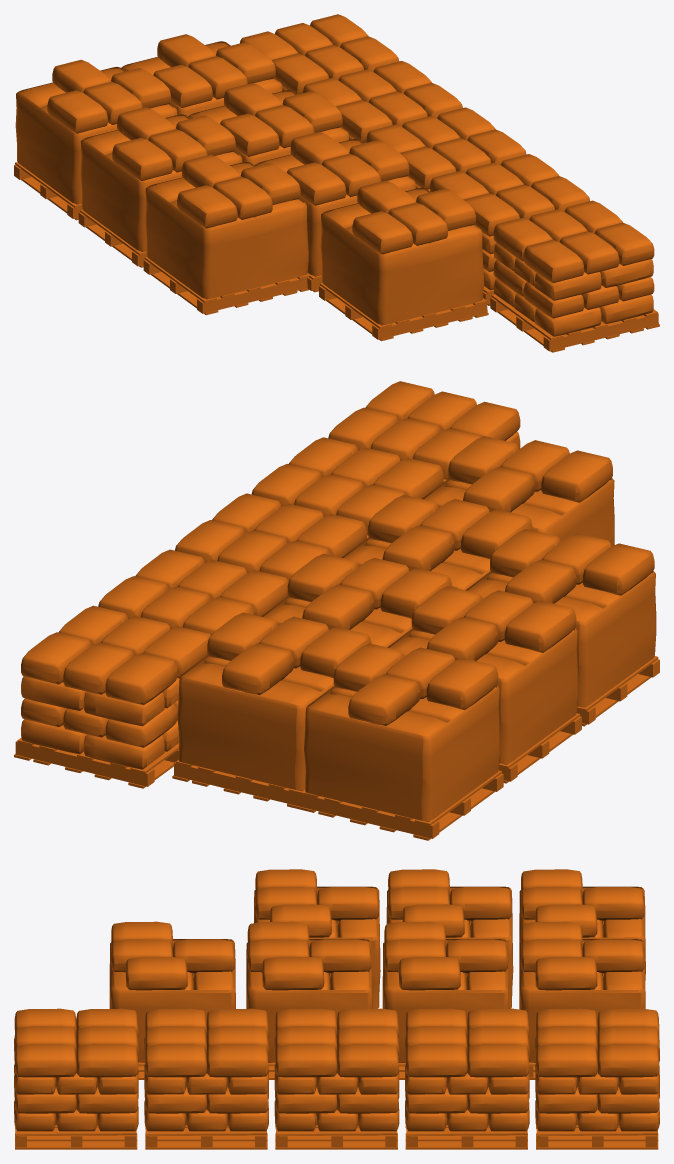
The picture shows the model from 3 angles, top to bottom: view 1: azimuth 30°, elevation 25°; view 2: azimuth 150°, elevation 25°; view 3: azimuth 270°, elevation 25°; orthographic projection. The views are drawn at different scales.
Parts seen in each view (by area): view 1: Obj3d66-1680817-1-200, Obj3d66-1680817-1-204, Obj3d66-1680817-5-559, Obj3d66-1680817-1-203, Obj3d66-1680817-1-202, Obj3d66-1680817-1-199, Obj3d66-1680817-5-560, Obj3d66-1680817-1-197, Obj3d66-1680817-1-198, Obj3d66-1680817-5-563, Obj3d66-1680817-5-562, Obj3d66-1680817-5-561; view 2: Obj3d66-1680817-1-202, Obj3d66-1680817-5-563, Obj3d66-1680817-1-197, Obj3d66-1680817-1-203, Obj3d66-1680817-1-204, Obj3d66-1680817-1-200, Obj3d66-1680817-1-198, Obj3d66-1680817-1-199, Obj3d66-1680817-5-559, Obj3d66-1680817-5-562, Obj3d66-1680817-5-561, Obj3d66-1680817-5-560; view 3: Obj3d66-1680817-5-561, Obj3d66-1680817-5-559, Obj3d66-1680817-5-562, Obj3d66-1680817-5-560, Obj3d66-1680817-5-563, Obj3d66-1680817-1-197, Obj3d66-1680817-1-200, Obj3d66-1680817-1-199, Obj3d66-1680817-1-198, Obj3d66-1680817-1-204, Obj3d66-1680817-1-203, Obj3d66-1680817-1-202.
Part boxes in pixels (x1,y1,x2,y2): Obj3d66-1680817-1-200: (319,180,488,341); Obj3d66-1680817-1-204: (143,154,309,315); Obj3d66-1680817-5-559: (490,200,659,352); Obj3d66-1680817-1-203: (78,107,242,267); Obj3d66-1680817-1-202: (14,59,177,220); Obj3d66-1680817-1-199: (255,131,415,292); Obj3d66-1680817-5-560: (430,154,589,305); Obj3d66-1680817-1-197: (121,34,282,116); Obj3d66-1680817-1-198: (188,83,348,165); Obj3d66-1680817-5-563: (240,14,398,94); Obj3d66-1680817-5-562: (302,61,462,143); Obj3d66-1680817-5-561: (366,107,526,190); Obj3d66-1680817-1-202: (299,643,503,840); Obj3d66-1680817-5-563: (14,605,210,788); Obj3d66-1680817-1-197: (172,612,371,809); Obj3d66-1680817-1-203: (387,586,581,783); Obj3d66-1680817-1-204: (465,529,659,726); Obj3d66-1680817-1-200: (422,436,614,546); Obj3d66-1680817-1-198: (261,553,452,647); Obj3d66-1680817-1-199: (342,495,532,589); Obj3d66-1680817-5-559: (328,381,520,481); Obj3d66-1680817-5-562: (98,549,288,635); Obj3d66-1680817-5-561: (175,493,366,580); Obj3d66-1680817-5-560: (251,437,443,537); Obj3d66-1680817-5-561: (274,1008,399,1149); Obj3d66-1680817-5-559: (14,1008,138,1149); Obj3d66-1680817-5-562: (405,1008,529,1149); Obj3d66-1680817-5-560: (144,1008,268,1149); Obj3d66-1680817-5-563: (535,1008,659,1149); Obj3d66-1680817-1-197: (519,921,645,1079); Obj3d66-1680817-1-200: (109,921,235,1079); Obj3d66-1680817-1-199: (246,921,372,1079); Obj3d66-1680817-1-198: (382,921,509,1079); Obj3d66-1680817-1-204: (254,869,380,1008); Obj3d66-1680817-1-203: (386,869,513,1008); Obj3d66-1680817-1-202: (519,869,645,980).
Size of the model in its own units: 2614 by 813 by 4208.
